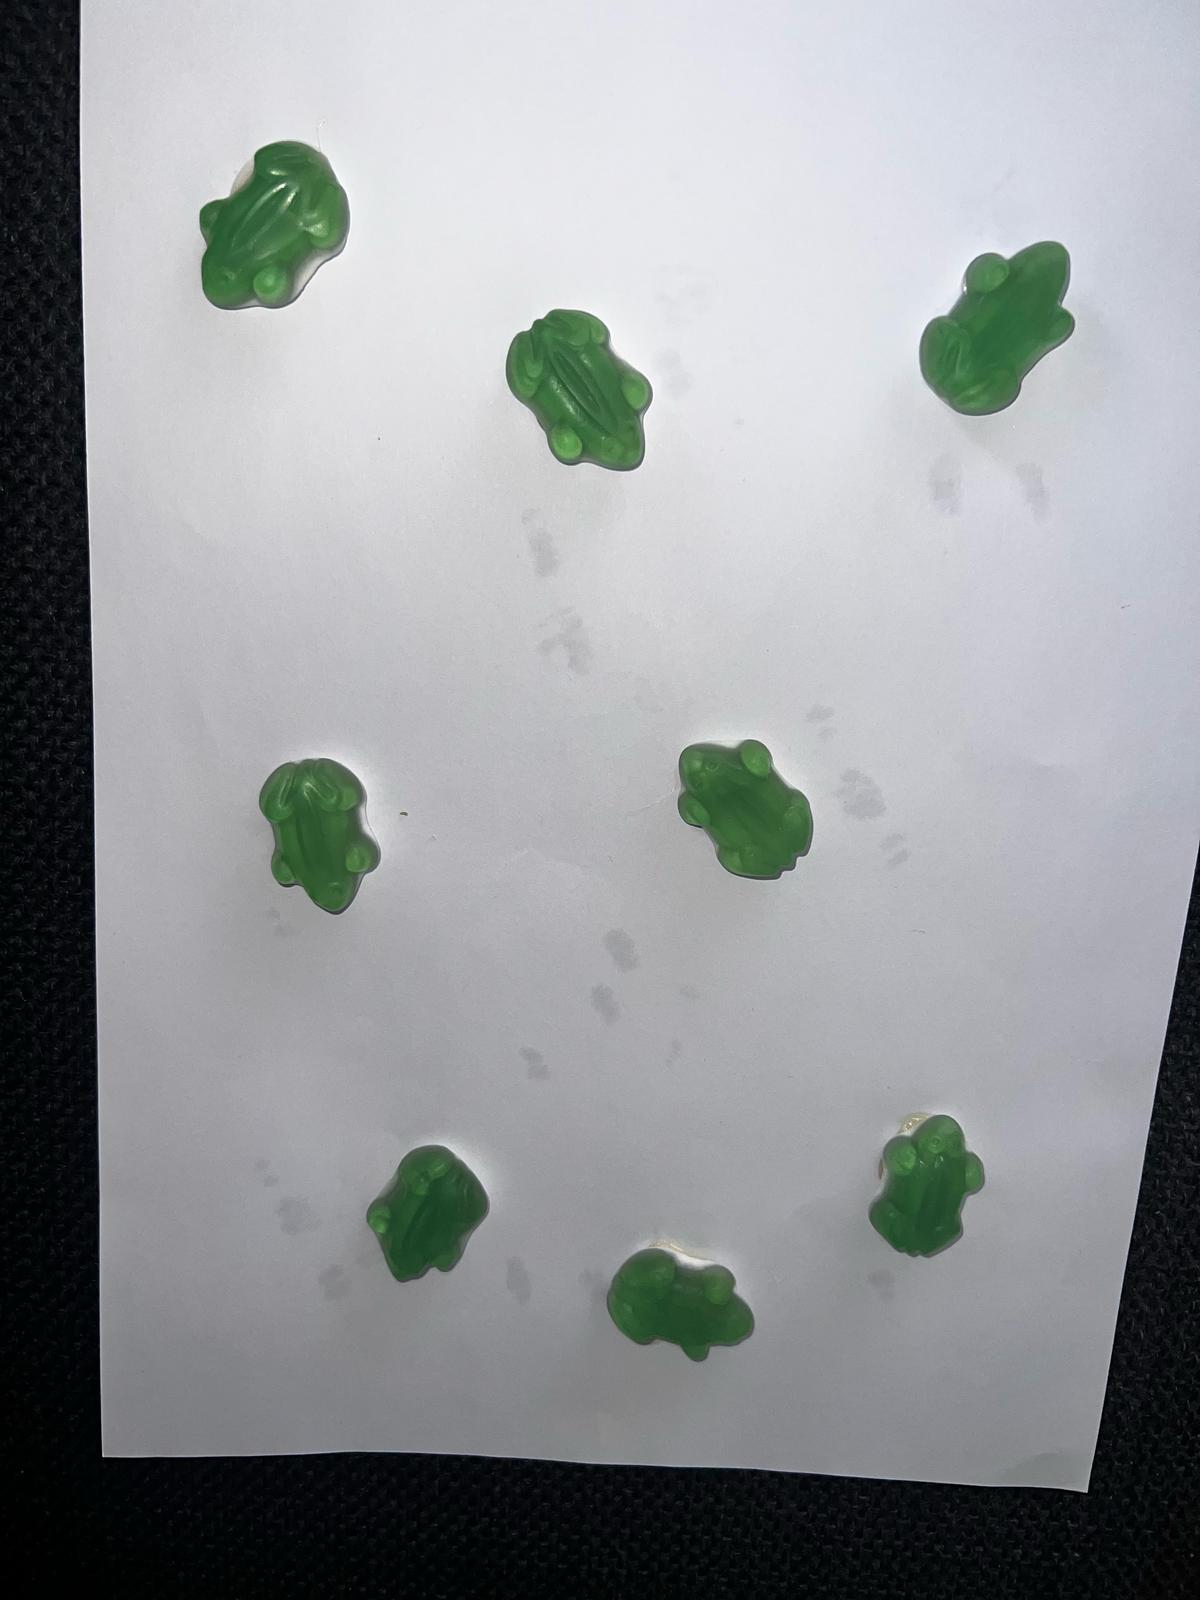frog: (910, 238, 1083, 417), (195, 130, 355, 317), (500, 306, 658, 477), (669, 732, 824, 888), (255, 755, 388, 923), (358, 1138, 495, 1285), (601, 1243, 765, 1367), (865, 1105, 989, 1261)
